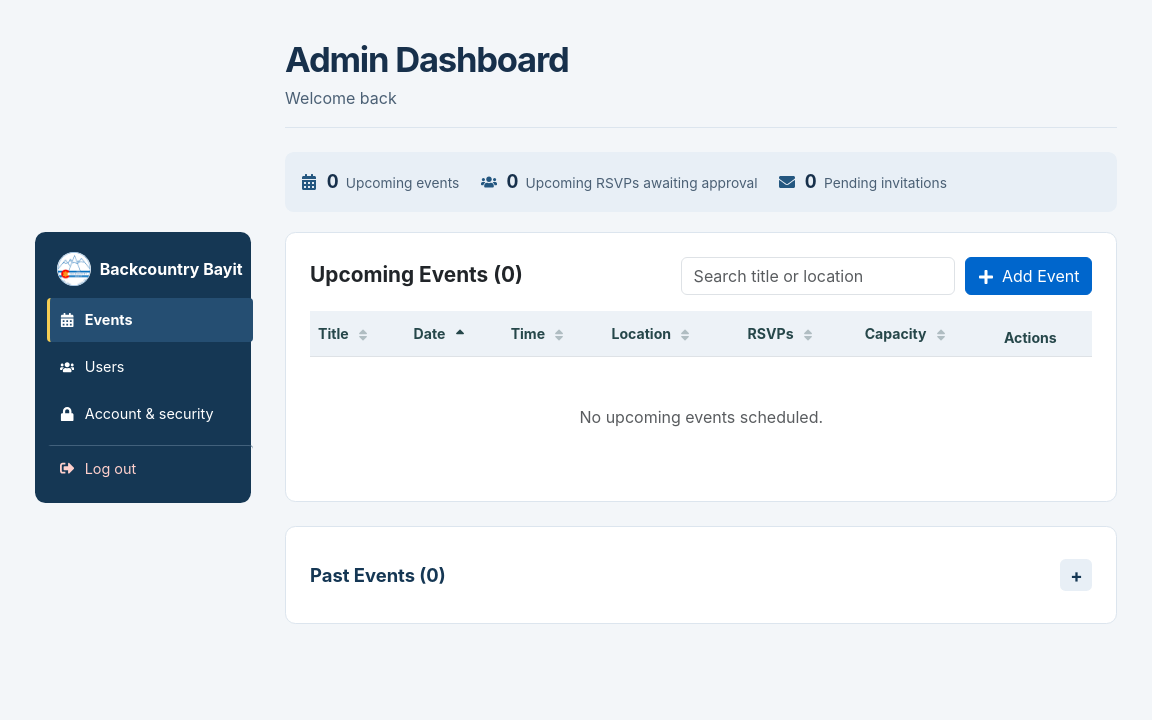
Test: resending disables the button while pending and surfaces delivery errors
Later steps or results of the test are not shown.
What coordinates should you click on to do the following:
click the button "Users"
I would click on:
 (150, 367)
Its box is 46,345 -> 253,389.
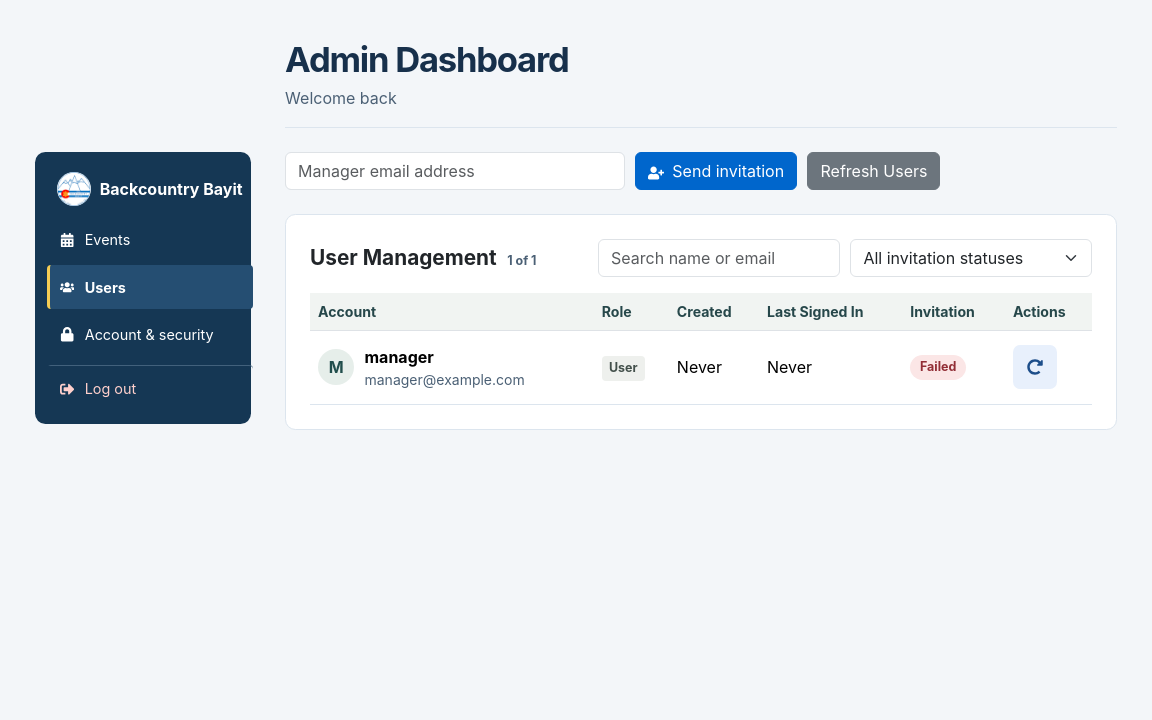
What coordinates should you click on to do the following:
click the button named "Resend Invitation"
I would click on:
 (1035, 367)
Its box is 1013,345 -> 1057,389.
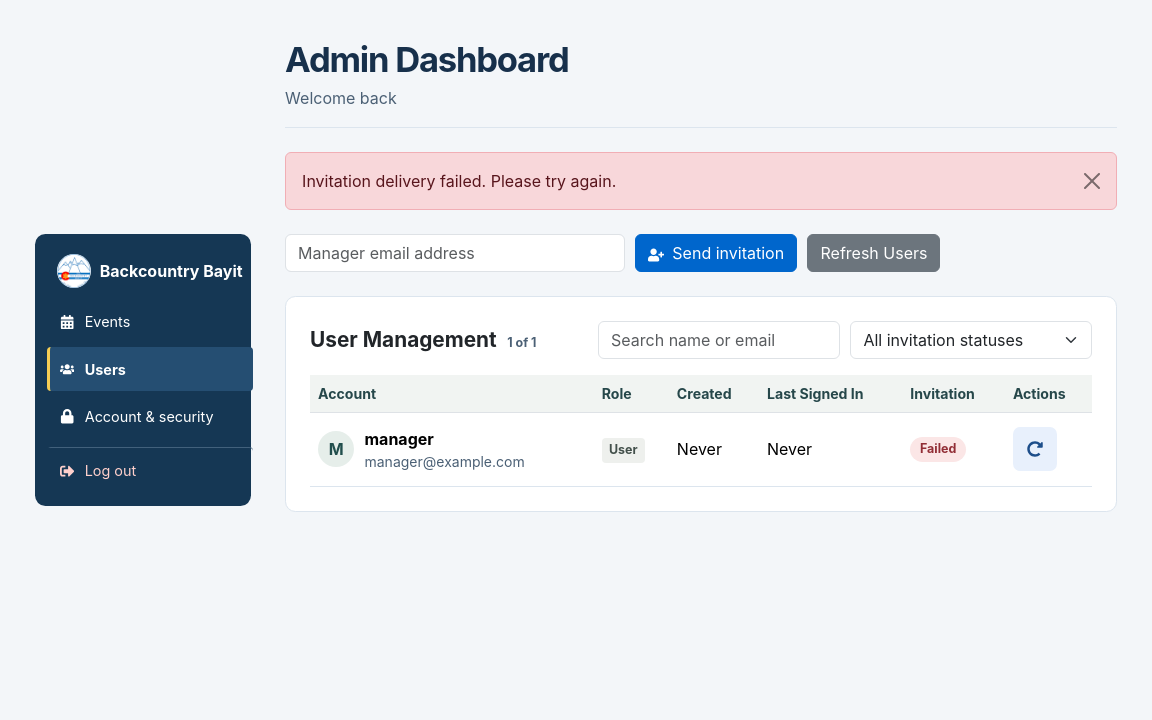
Expected: the button named "Resend Invitation" is enabled, 1013,427 -> 1057,471
Expected: the text "Invitation delivery failed. Please try again." is shown, 285,152 -> 1118,210
